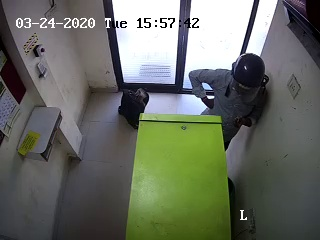helmet: (229, 51, 270, 103)
